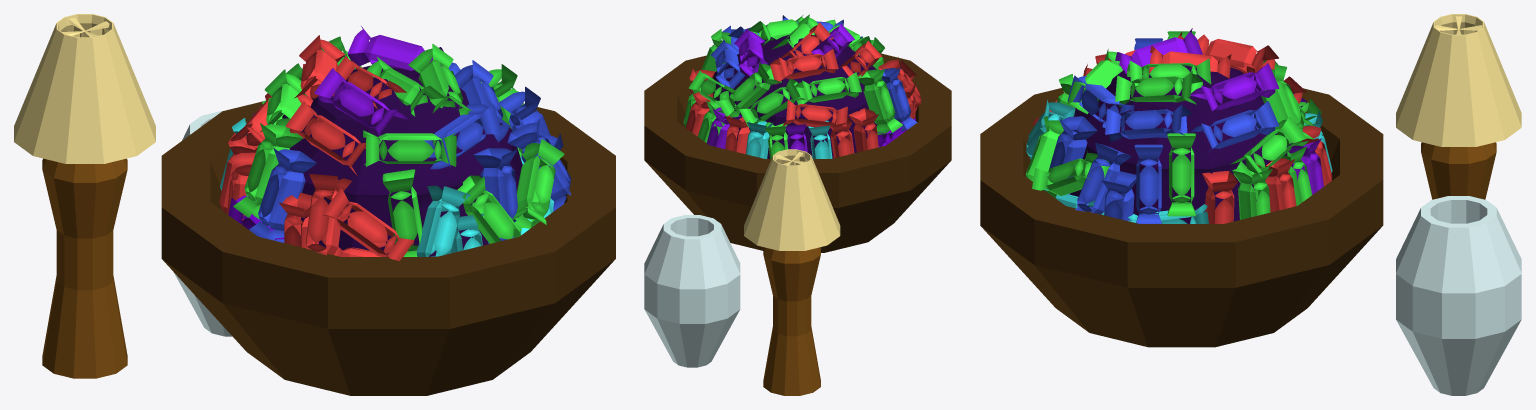
The model's file is Prop Pack 1.fbx.
3 views of the same model, side by side, from view 1: azimuth 30°, elevation 25°; view 2: azimuth 150°, elevation 25°; view 3: azimuth 270°, elevation 25° (orthographic). The views are drawn at different scales.
Visible parts, largest first — view 1: Bowl, Candy, Lamp Shade, Lamp, sphere, Vase; view 2: Candy, Bowl, Vase, Lamp Shade, Lamp, sphere; view 3: Bowl, Candy, Vase, Lamp Shade, sphere, Lamp.
Part boxes in pixels (x1,y1,x2,y2): Bowl: (161,101,615,395); Candy: (219,26,571,261); Lamp Shade: (14,14,155,163); Lamp: (42,158,127,378); sphere: (282,65,522,256); Vase: (174,111,232,336); Candy: (683,14,921,158); Bowl: (644,53,951,252); Vase: (644,215,740,367); Lamp Shade: (744,149,840,250); Lamp: (763,247,820,395); sphere: (713,34,892,158); Bowl: (980,88,1383,347); Candy: (1025,28,1332,223); Vase: (1396,196,1521,395); Lamp Shade: (1396,14,1521,146); sphere: (1070,65,1293,223); Lamp: (1421,142,1496,199).
Size of the model in its own units: 103 by 92.06 by 134.
Materials: 4 (4 with a texture image).
